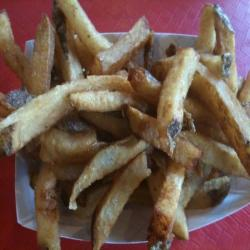fries: (16, 29, 250, 212)
